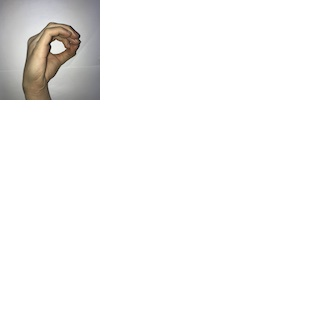rock: (18, 18, 82, 91)
